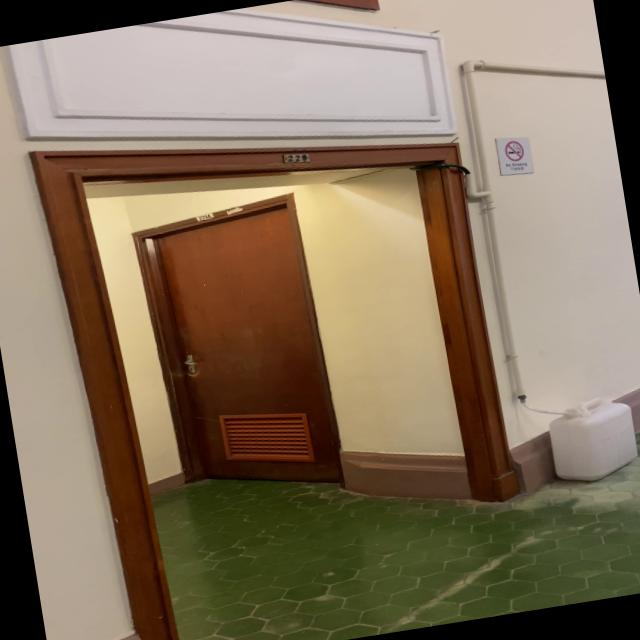room229: (281, 148, 313, 168)
